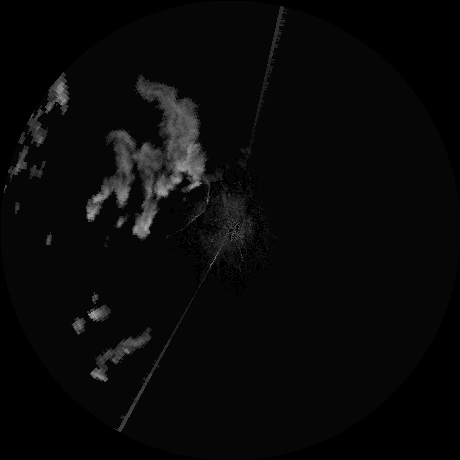frontgust: (184, 175, 211, 228)
